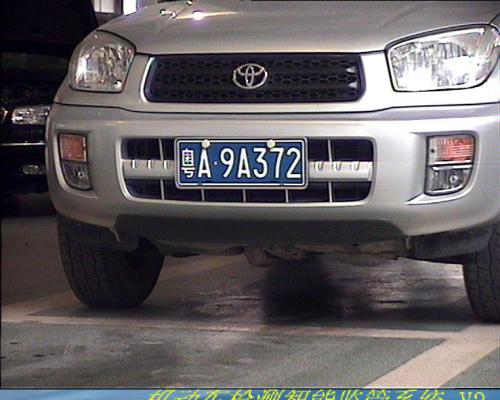Carplate: (172, 130, 316, 193)
